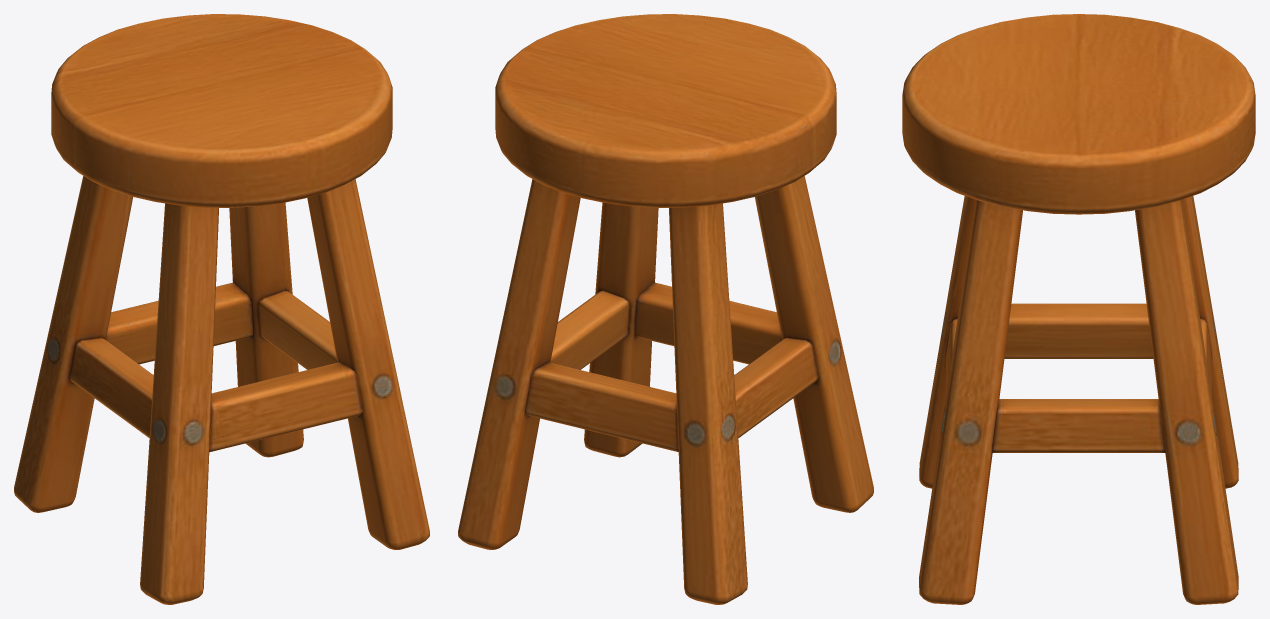
The model's file is wood_stool.glb.
The picture shows the model from 3 angles, left to right: view 1: azimuth 30°, elevation 25°; view 2: azimuth 150°, elevation 25°; view 3: azimuth 270°, elevation 25°; orthographic projection. The views are drawn at different scales.
Parts seen in each view (by area): view 1: prop; view 2: prop; view 3: prop.
Boxes of the visible parts, <box> form: prop: <box>14,14,429,604</box>; prop: <box>458,14,873,604</box>; prop: <box>902,14,1255,604</box>.
Bounding box in the file's own units: 0.702 × 1 × 0.702.
Materials: 1 (1 with a texture image).
